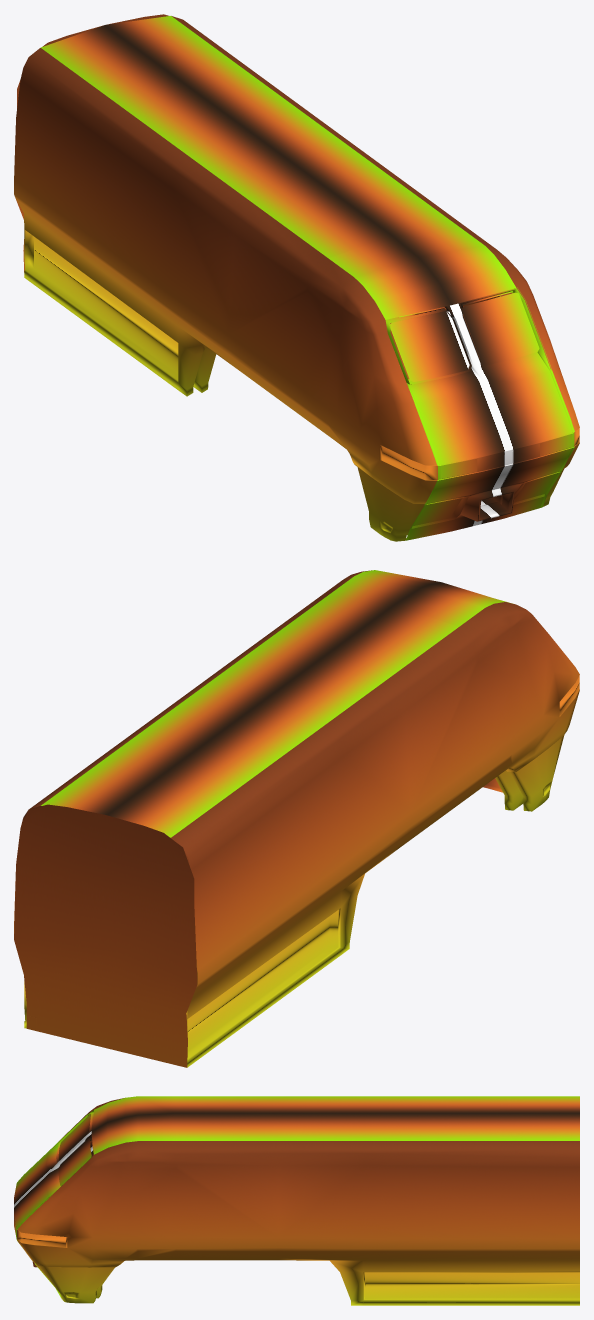
Rendered from Station stop point.fbx.
3 views of the same model, one above another, from view 1: azimuth 30°, elevation 25°; view 2: azimuth 150°, elevation 25°; view 3: azimuth 270°, elevation 25° (orthographic). The views are drawn at different scales.
Visible parts, largest first — view 1: Golw1; view 2: Golw1; view 3: Golw1.
Boxes of the visible parts, <box> form: Golw1: <box>14,14,579,541</box>; Golw1: <box>14,570,579,1067</box>; Golw1: <box>14,1096,579,1305</box>.
Bounding box in the file's own units: 121 × 146 × 457.
